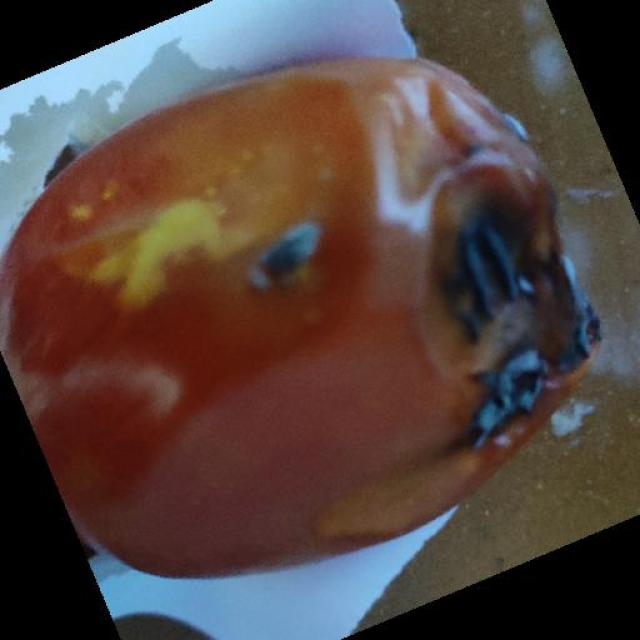Stale_tomato: (1, 88, 612, 533)
